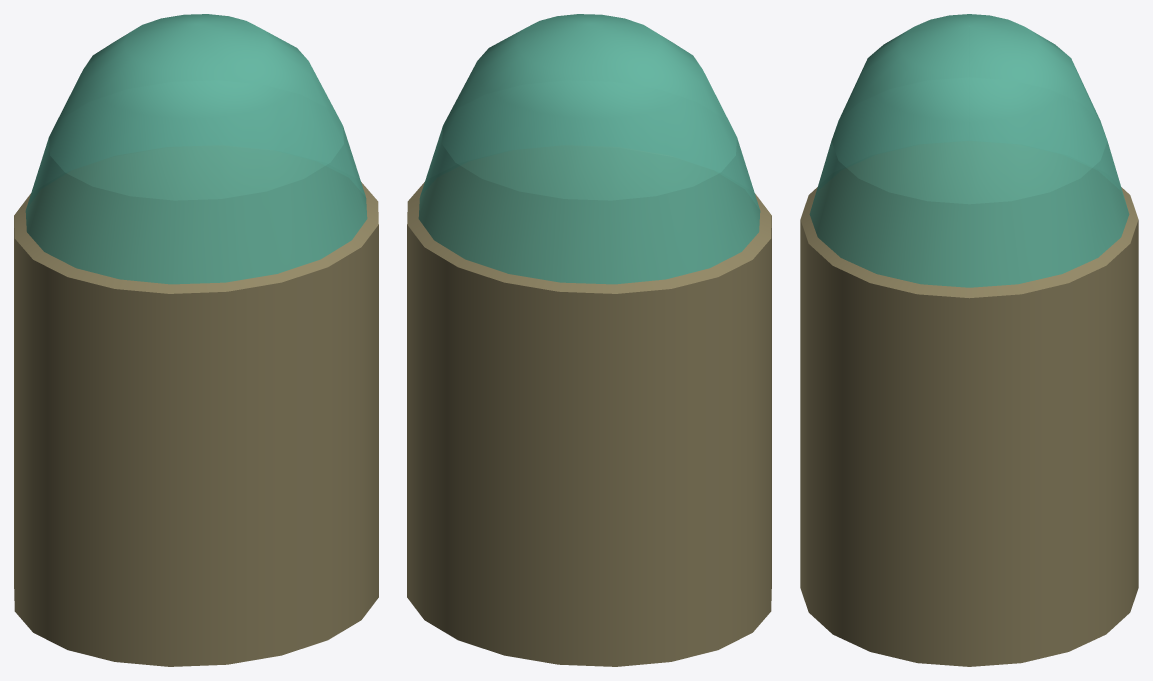
File: big globe building volor.fbx
3 views of the same model, side by side, from view 1: azimuth 30°, elevation 25°; view 2: azimuth 150°, elevation 25°; view 3: azimuth 270°, elevation 25° (orthographic).
Parts seen in each view (by area): view 1: big_globe_building; view 2: big_globe_building; view 3: big_globe_building.
Boxes of the visible parts, <box> form: big_globe_building: <box>14,14,378,666</box>; big_globe_building: <box>407,14,771,666</box>; big_globe_building: <box>800,14,1138,666</box>.
Size of the model in its own units: 6.37 by 10.6 by 5.78.
